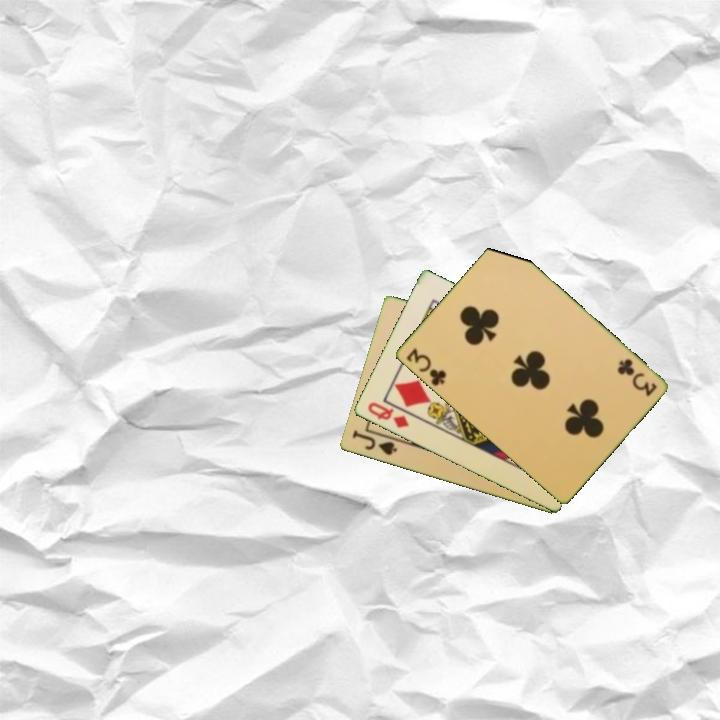3c: (402, 344, 449, 389), (613, 355, 659, 399)
Js: (348, 426, 400, 458)
Qd: (364, 398, 412, 431)
